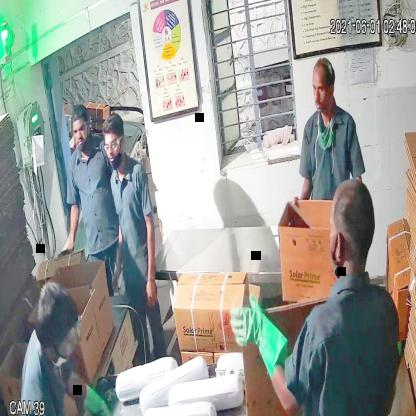goggles: (103, 136, 126, 156)
no_goggles: (308, 78, 338, 101), (71, 119, 90, 138)
